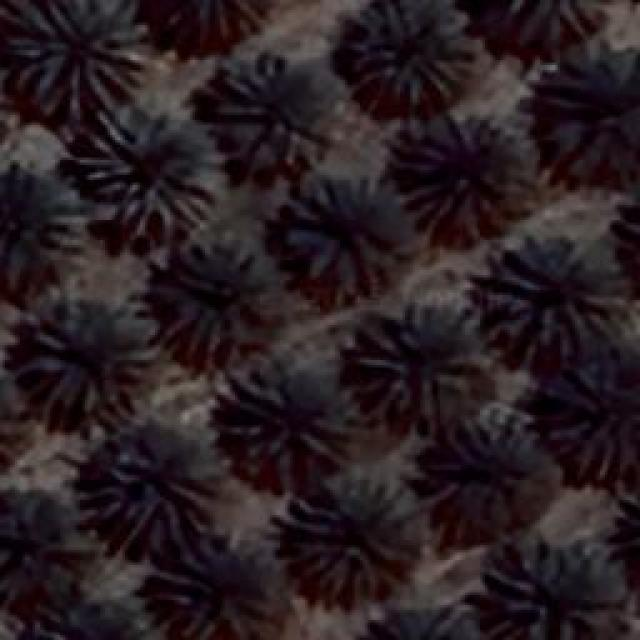PalmTree: (120, 31, 415, 625), (72, 100, 220, 235), (390, 105, 530, 230), (287, 467, 415, 595), (2, 0, 147, 112), (418, 410, 542, 538), (488, 237, 622, 345), (210, 58, 332, 172), (27, 308, 145, 420), (345, 0, 470, 105), (540, 54, 640, 184), (280, 175, 390, 288), (238, 371, 352, 479), (100, 38, 120, 621), (96, 430, 212, 528), (152, 240, 252, 350), (160, 550, 282, 640), (480, 542, 590, 638), (352, 320, 460, 415), (547, 365, 635, 480), (2, 168, 80, 296), (455, 0, 605, 60), (0, 485, 82, 585), (150, 0, 255, 48), (613, 177, 640, 295), (615, 479, 640, 601), (0, 366, 26, 478), (621, 178, 640, 296), (623, 478, 640, 594), (0, 362, 17, 478), (628, 479, 640, 598)
